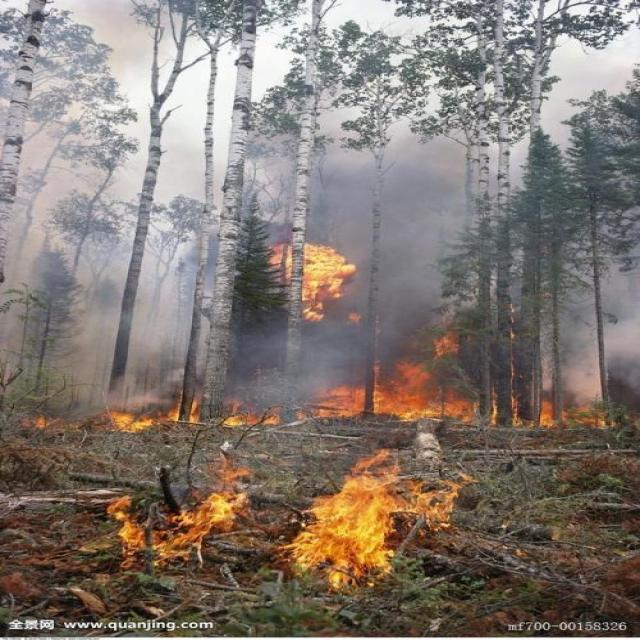Fire: (102, 330, 621, 432), (270, 447, 480, 595), (104, 448, 251, 572), (268, 239, 360, 323)
Smoke: (2, 1, 640, 414)
